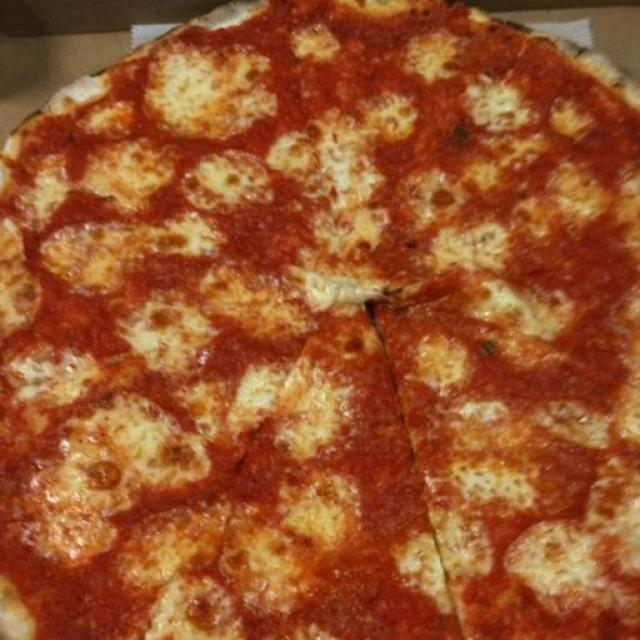Pizza: (0, 0, 640, 640)
